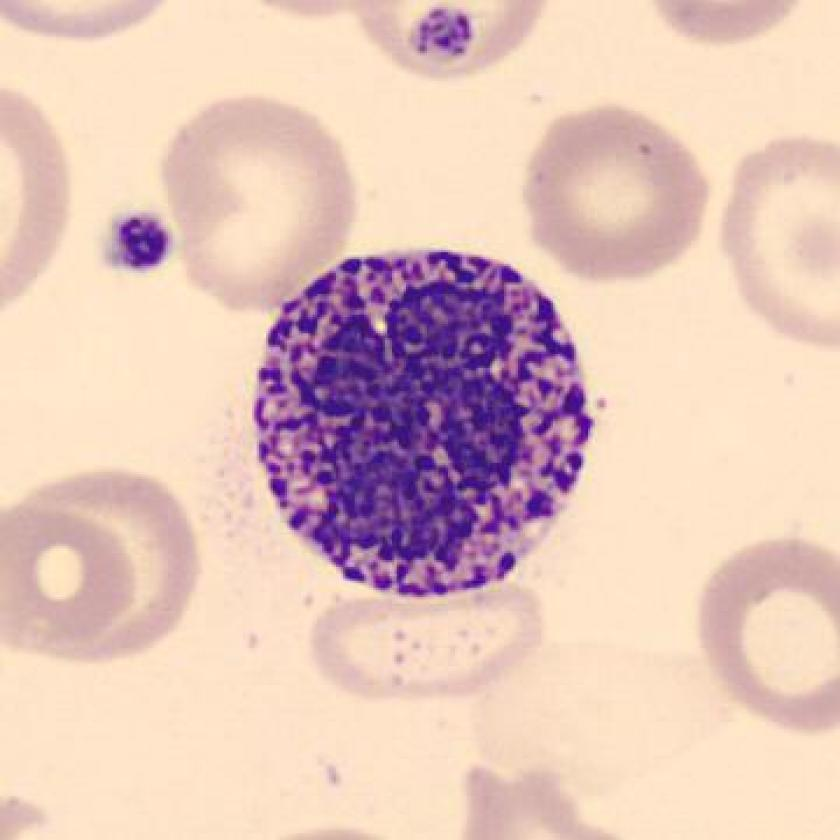basophil: (255, 249, 589, 591)
